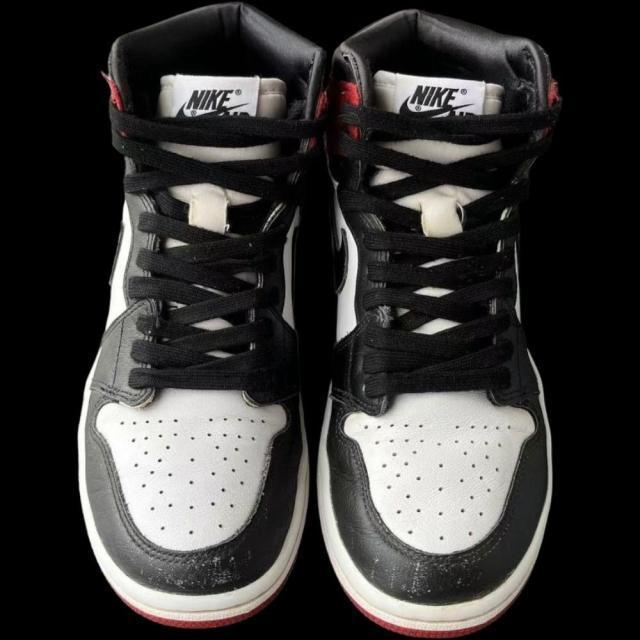nike original jordan 1: (72, 3, 330, 626), (318, 5, 565, 640)
